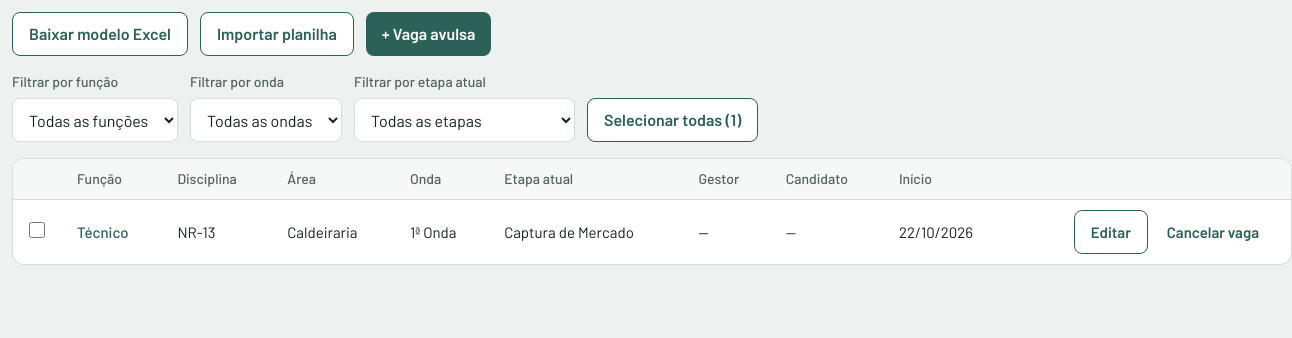
falha ao cancelar a vaga aparece na tela
The width and height of the screenshot is (1292, 338).
Click the button "Cancelar vaga": (1213, 232) [1151,210,1275,254]
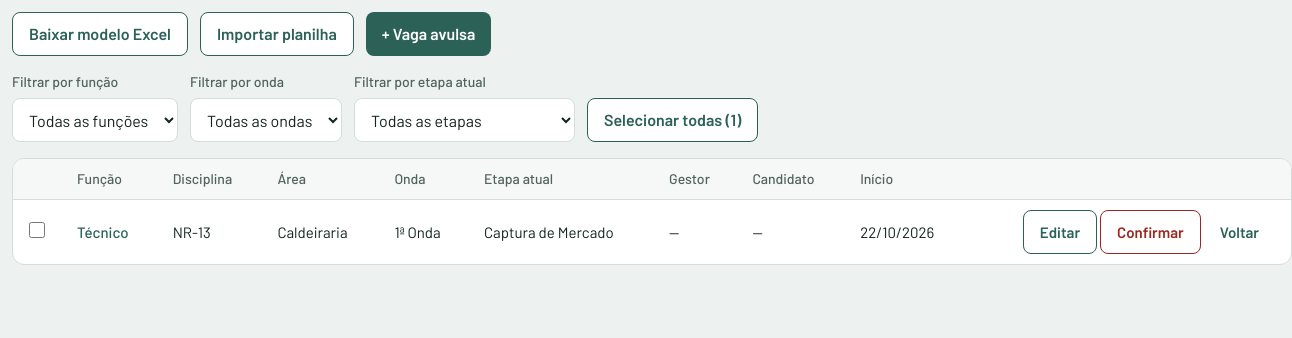
Click the button "Confirmar": (1150, 232) [1100,210,1201,254]
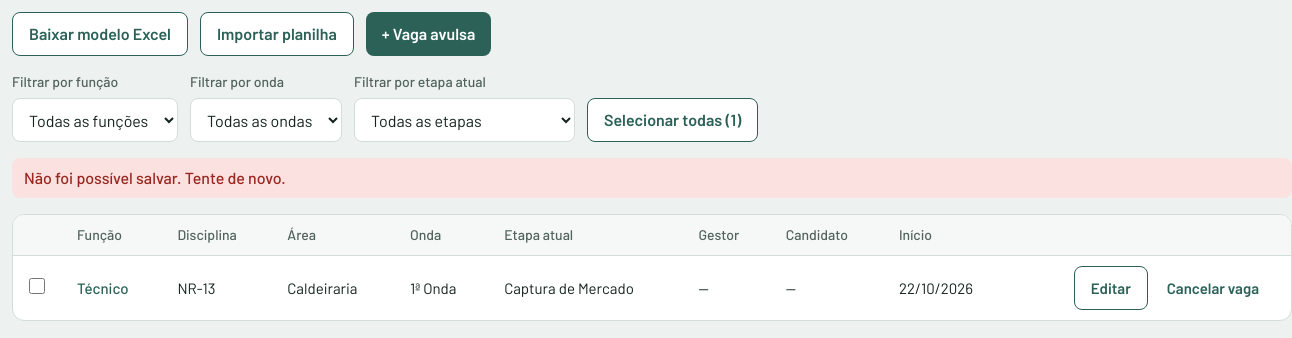
Expected: the message reads "Não foi possível salvar. Tente de novo.", [24,168,286,187]
